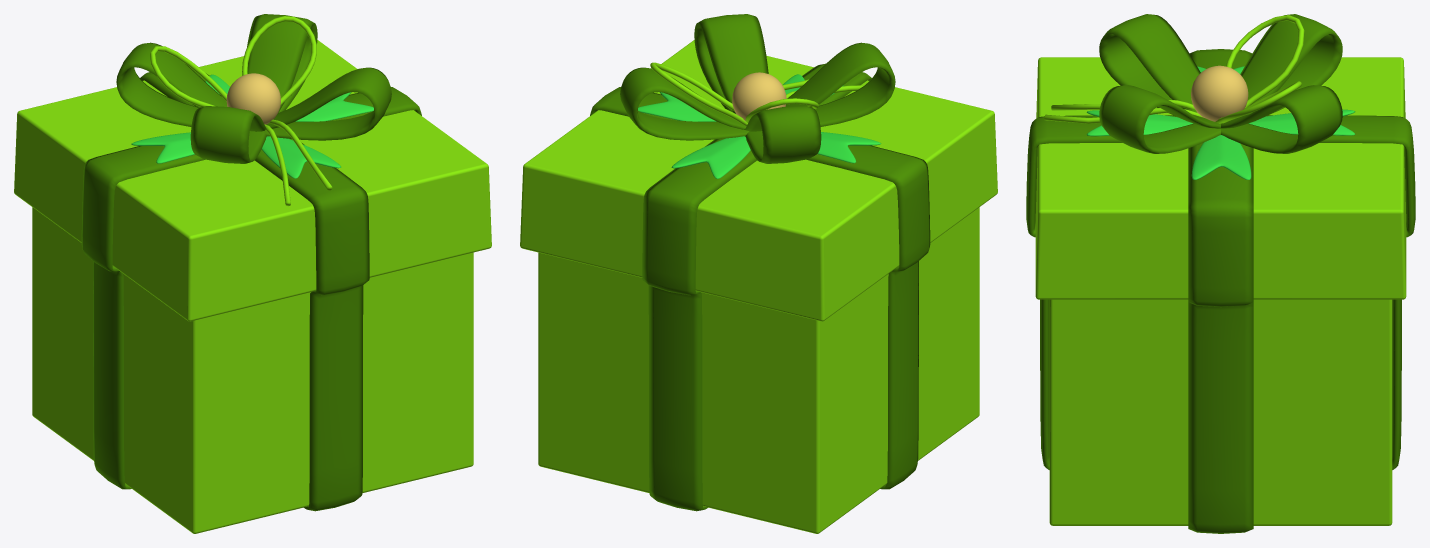
The model's file is Flightpowerup.fbx.
The picture shows the model from 3 angles, left to right: view 1: azimuth 30°, elevation 25°; view 2: azimuth 150°, elevation 25°; view 3: azimuth 270°, elevation 25°; orthographic projection. The views are drawn at different scales.
Visible parts, largest first — view 1: Giftbox01; view 2: Giftbox01; view 3: Giftbox01.
Part boxes in pixels (bbox=[...]): Giftbox01: bbox=[14, 14, 491, 533]; Giftbox01: bbox=[520, 14, 997, 533]; Giftbox01: bbox=[1026, 14, 1415, 533].
Bounding box in the file's own units: 227 × 266 × 227.
